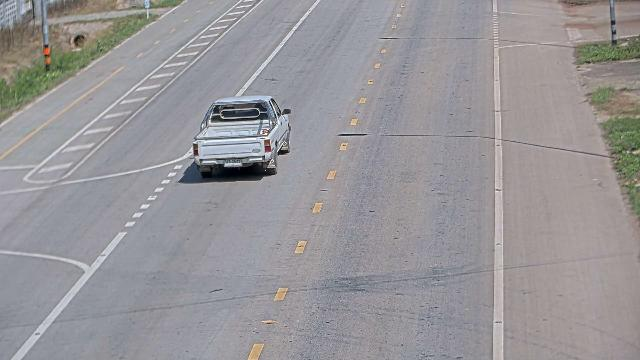pickup-truck: (191, 94, 292, 178)
